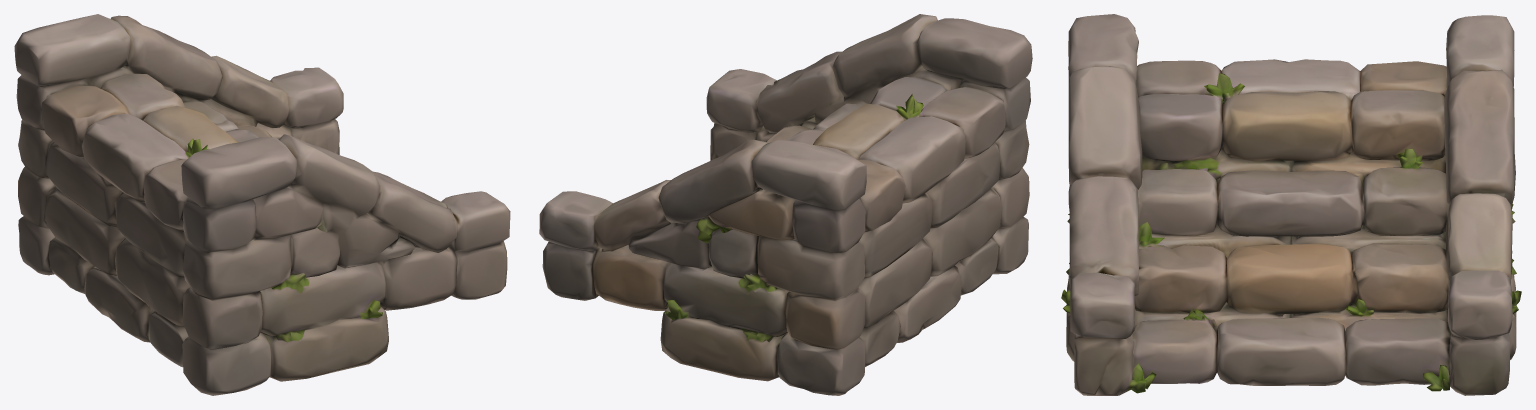
The model's file is stairs_stone_4k.glb.
3 views of the same model, side by side, from view 1: azimuth 30°, elevation 25°; view 2: azimuth 150°, elevation 25°; view 3: azimuth 270°, elevation 25° (orthographic). The views are drawn at different scales.
Visible parts, largest first — view 1: tripo_node_ca8a87b0-69b4-4206-b909-c1a4d31dd16f; view 2: tripo_node_ca8a87b0-69b4-4206-b909-c1a4d31dd16f; view 3: tripo_node_ca8a87b0-69b4-4206-b909-c1a4d31dd16f.
Boxes of the visible parts, bbox=[...] form: tripo_node_ca8a87b0-69b4-4206-b909-c1a4d31dd16f: bbox=[14, 14, 510, 395]; tripo_node_ca8a87b0-69b4-4206-b909-c1a4d31dd16f: bbox=[539, 14, 1032, 395]; tripo_node_ca8a87b0-69b4-4206-b909-c1a4d31dd16f: bbox=[1061, 14, 1521, 395].
Bounding box in the file's own units: 0.8522 × 0.6154 × 0.9826.
Materials: 1 (1 with a texture image).
